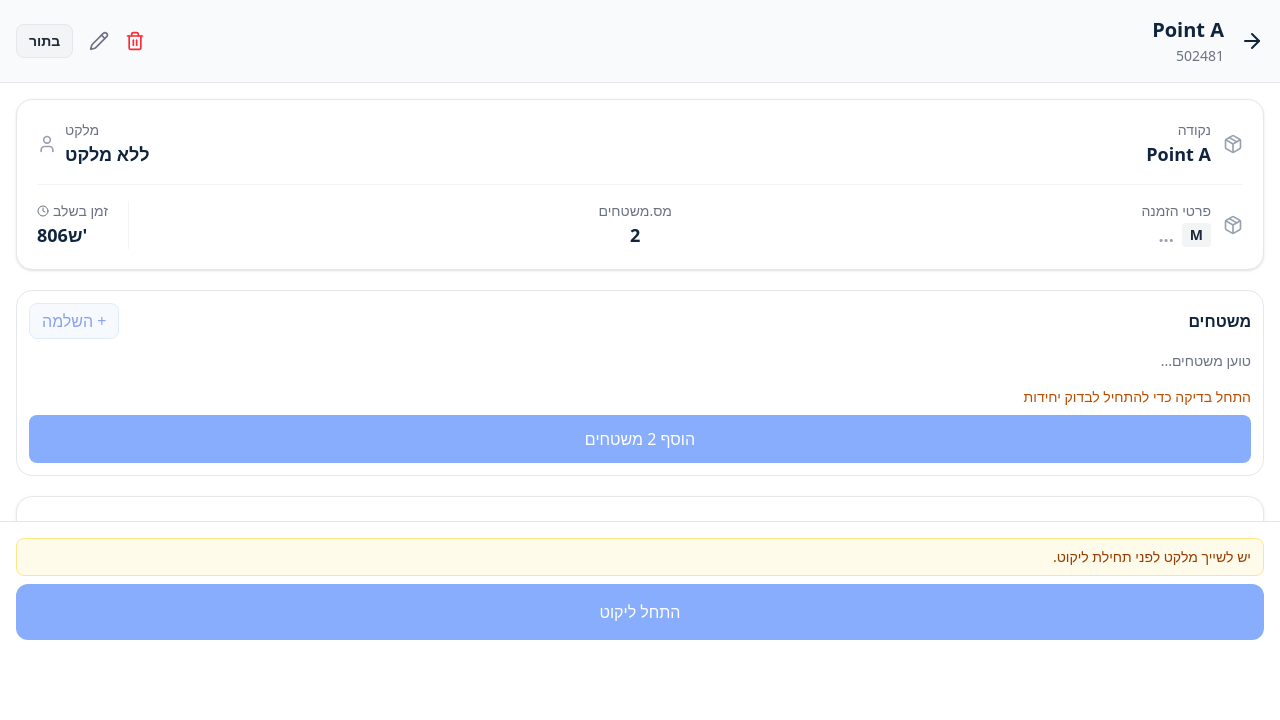
OrderDetail check-units section › enables start immediately after saving a free-text picker in the detail sheet
Expected: the text "יש לשייך מלקט לפני תחילת ליקוט." is shown, [16, 538, 1264, 576]
Step 1. Click the text "ללא מלקט" → (107, 154), box [65, 140, 150, 168]
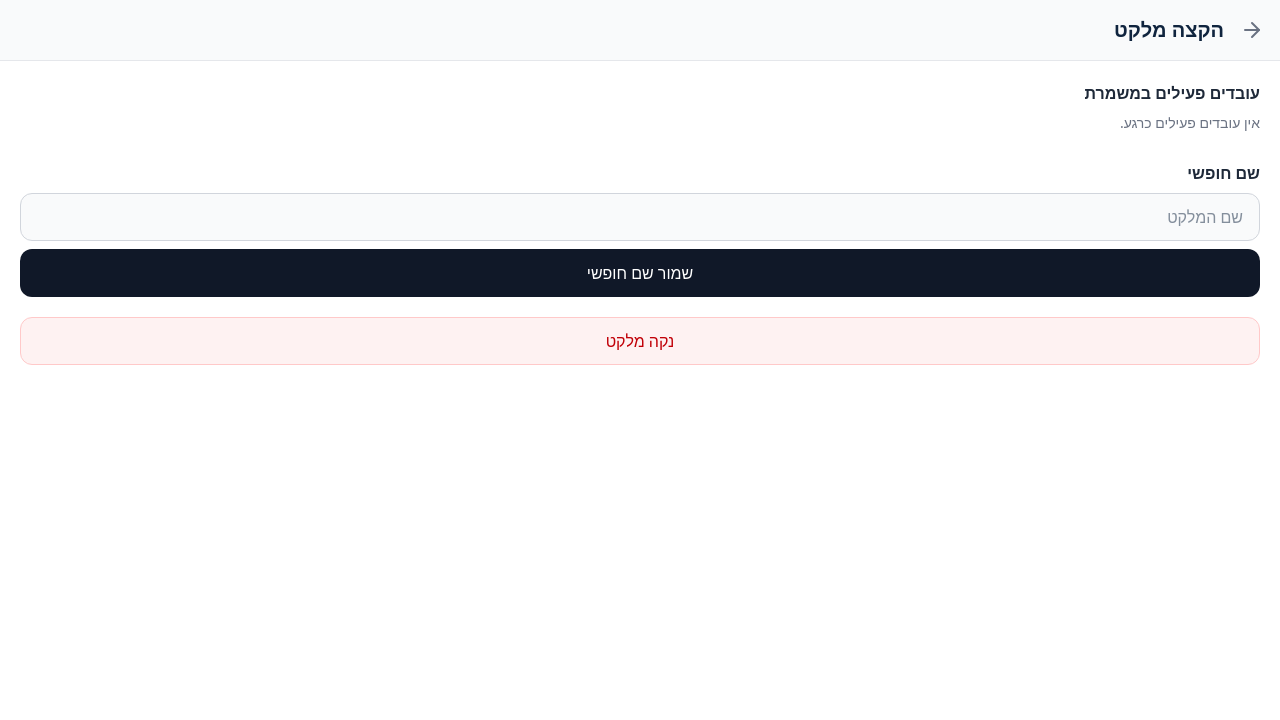
Step 2. Type "Adam" into the field with placeholder "שם המלקט" → (640, 217), box [20, 193, 1260, 241]
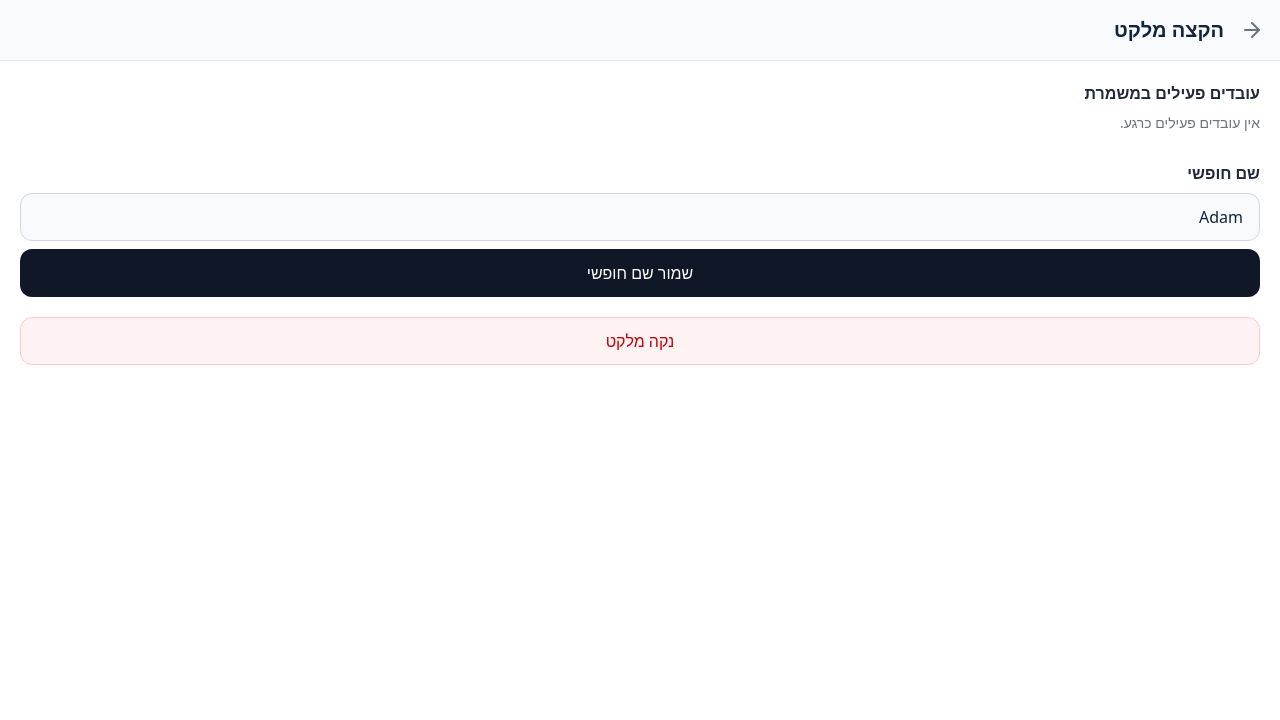
Step 3. Click the button "שמור שם חופשי" → (640, 273), box [20, 249, 1260, 297]
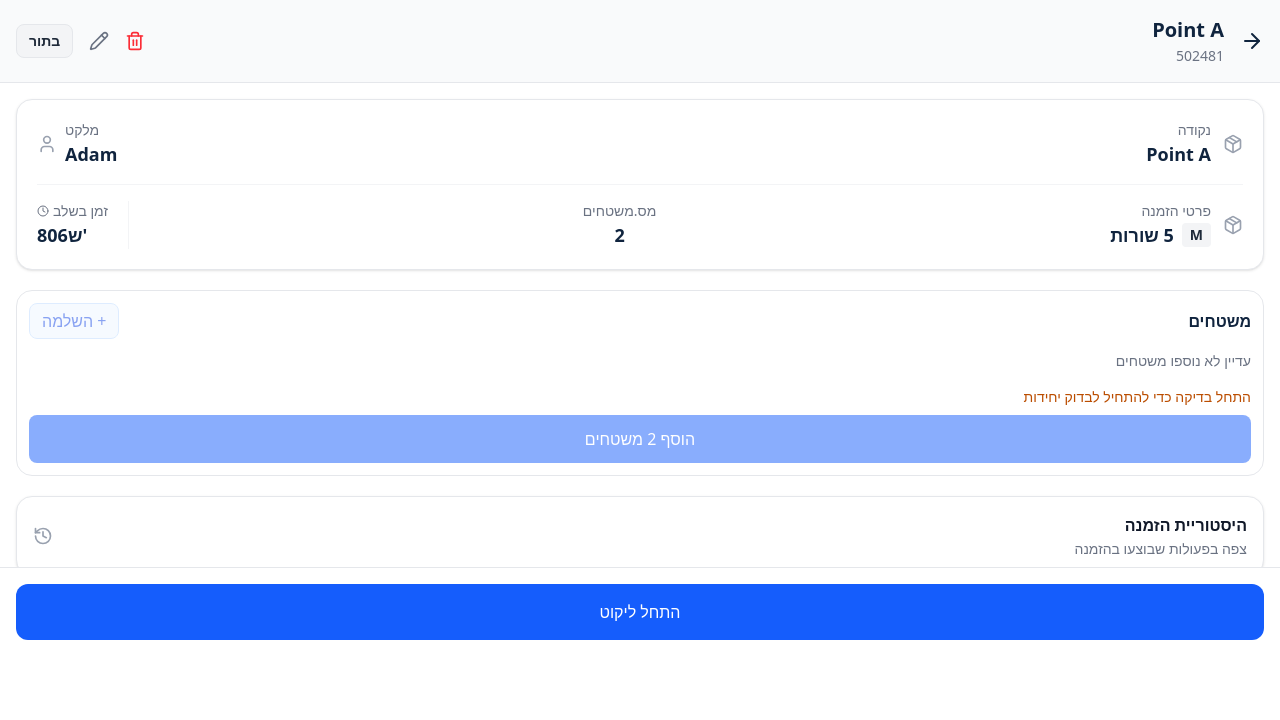
Result: the text "Adam" is shown at [65, 140, 117, 168]
Result: the text "יש לשייך מלקט לפני תחילת ליקוט." is gone
Result: the button "התחל ליקוט" is enabled at [16, 584, 1264, 640]
